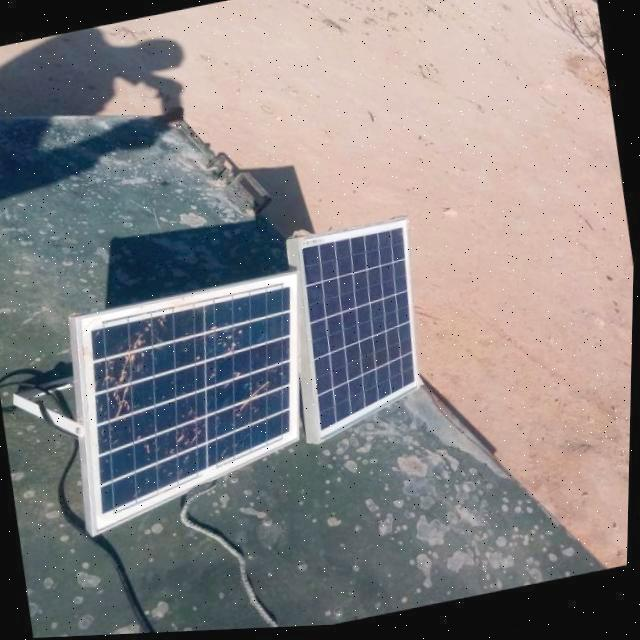Normal Solar Panel: (286, 219, 439, 448)
